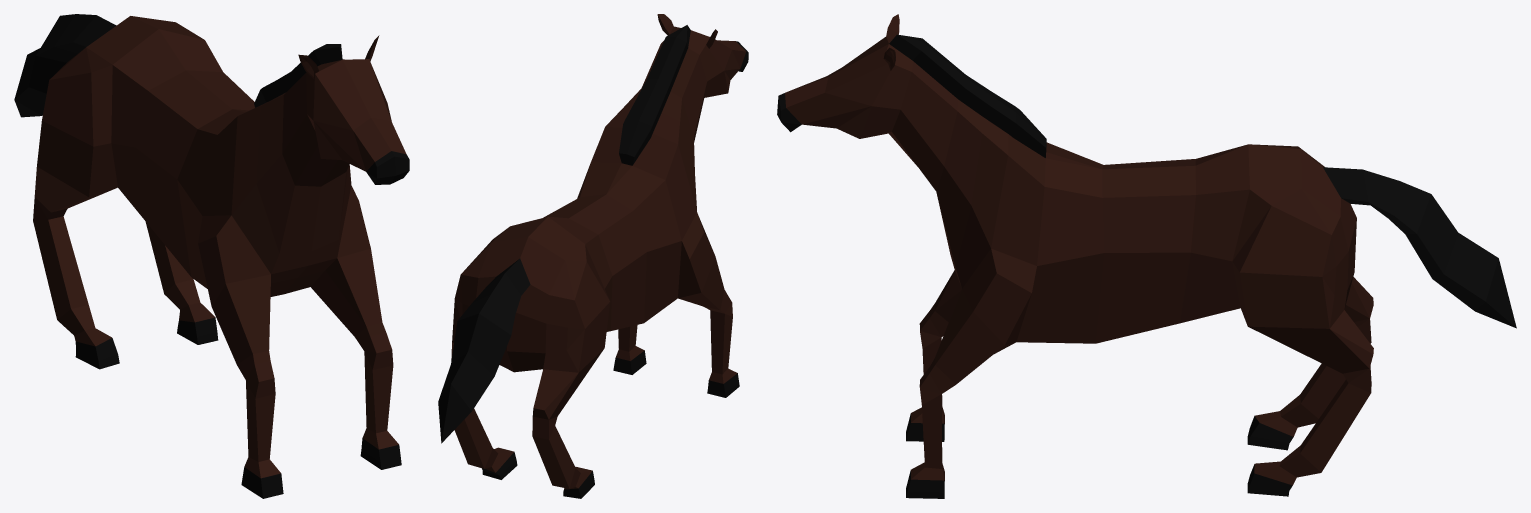
The model's file is Horse_000004.obj.
The picture shows the model from 3 angles, left to right: view 1: azimuth 30°, elevation 25°; view 2: azimuth 150°, elevation 25°; view 3: azimuth 270°, elevation 25°; orthographic projection. The views are drawn at different scales.
Parts seen in each view (by area): view 1: Horse_Cylinder; view 2: Horse_Cylinder; view 3: Horse_Cylinder.
Part boxes in pixels (left/top/right/bottom): Horse_Cylinder: left=14, top=14, right=409, bottom=498; Horse_Cylinder: left=438, top=14, right=748, bottom=498; Horse_Cylinder: left=777, top=14, right=1516, bottom=498.
Size of the model in its own units: 2.55 by 6.68 by 10.21.
